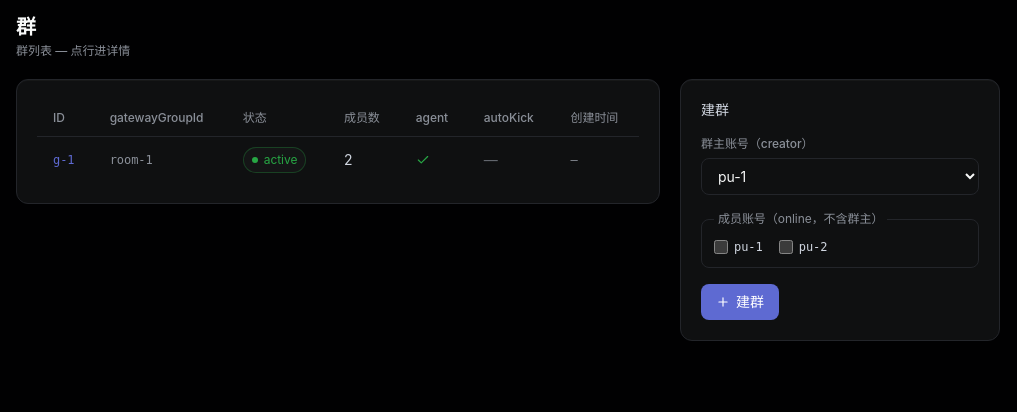
Test: 群列表页 › 建群失败：job failed → errors[{step,code}] 逐字展示
The width and height of the screenshot is (1017, 412).
Select "pu-1" in the dropdown with test id "create-creator" at x=840, y=176, box [701, 158, 979, 195]
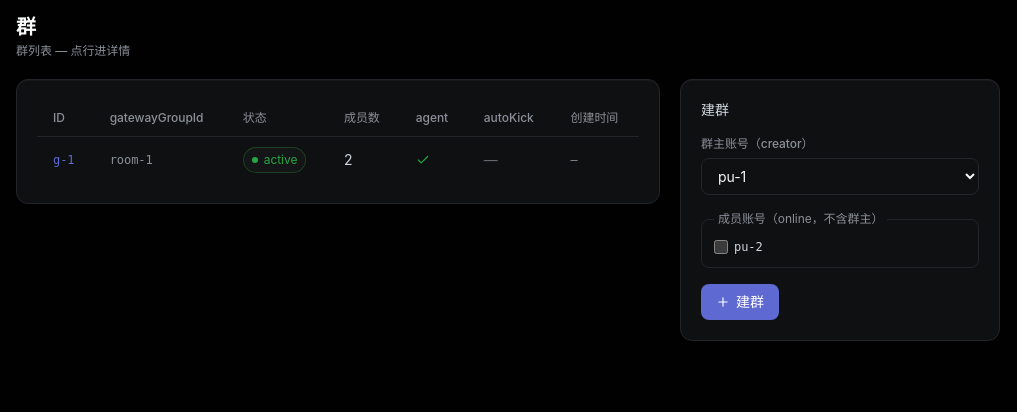
Click the checkbox with test id "create-member-a-2" at x=721, y=247, box [714, 240, 728, 254]
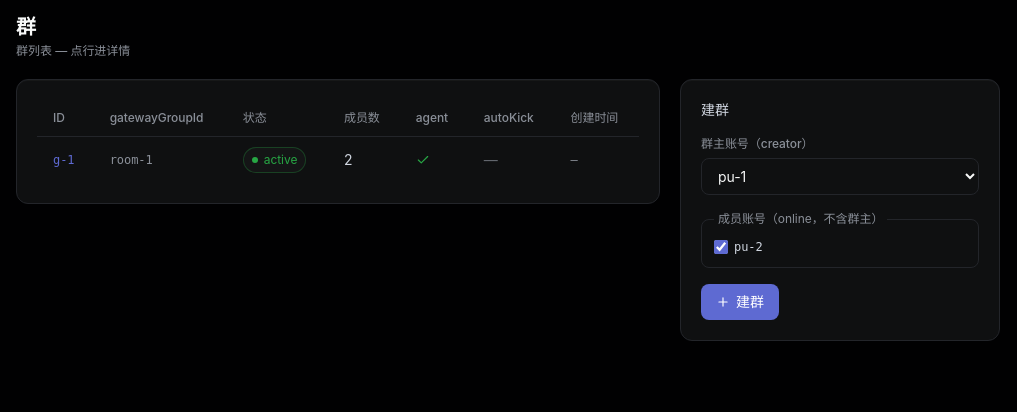
Click the button with test id "create-submit" at x=740, y=302, box [701, 284, 779, 320]
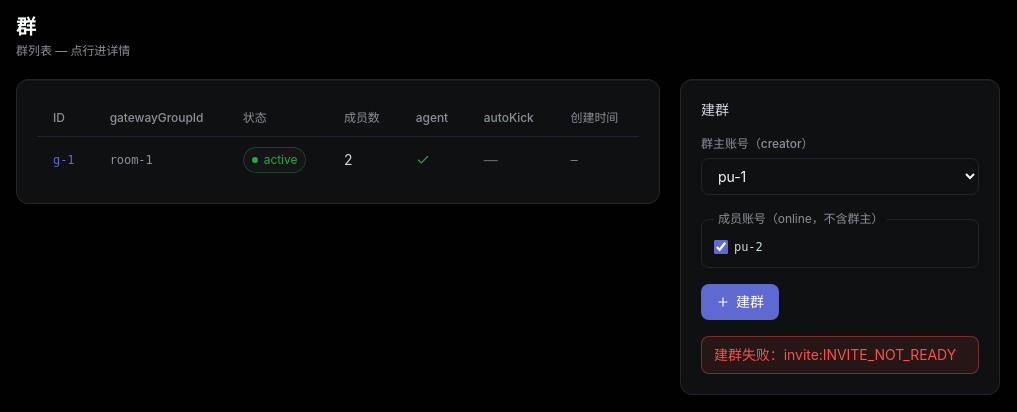
Expected: the message with test id "create-error" shows "invite:INVITE_NOT_READY", [714, 346, 956, 362]
